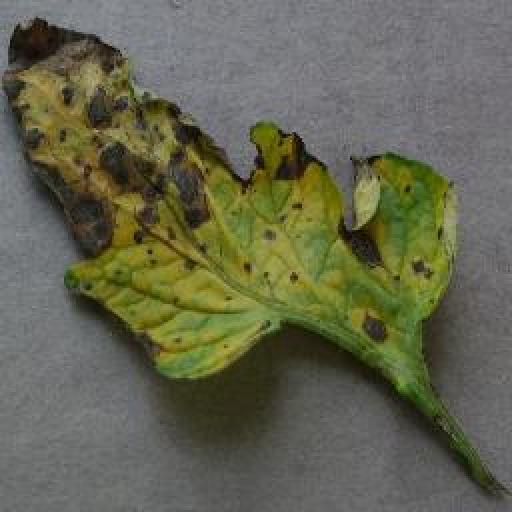Early Blight: (6, 13, 460, 383)
